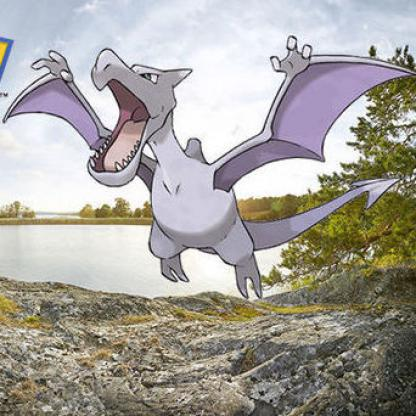Aerodactyl: (2, 41, 416, 299)
